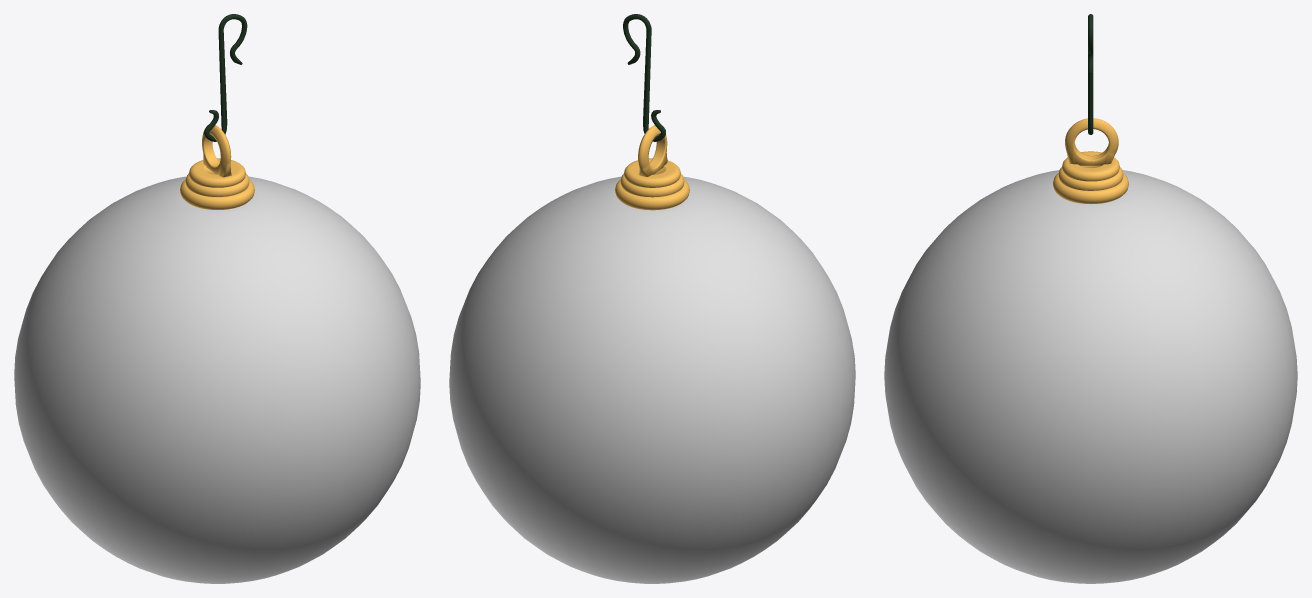
File: Pallina_natalizia_09.fbx
The picture shows the model from 3 angles, left to right: view 1: azimuth 30°, elevation 25°; view 2: azimuth 150°, elevation 25°; view 3: azimuth 270°, elevation 25°; orthographic projection.
Visible parts, largest first — view 1: Pallina_natalizia_09; view 2: Pallina_natalizia_09; view 3: Pallina_natalizia_09.
Part boxes in pixels (left/top/right/bottom): Pallina_natalizia_09: left=14, top=14, right=420, bottom=583; Pallina_natalizia_09: left=449, top=14, right=855, bottom=583; Pallina_natalizia_09: left=884, top=14, right=1297, bottom=583.
Bounding box in the file's own units: 11.94 × 17.74 × 11.94.
